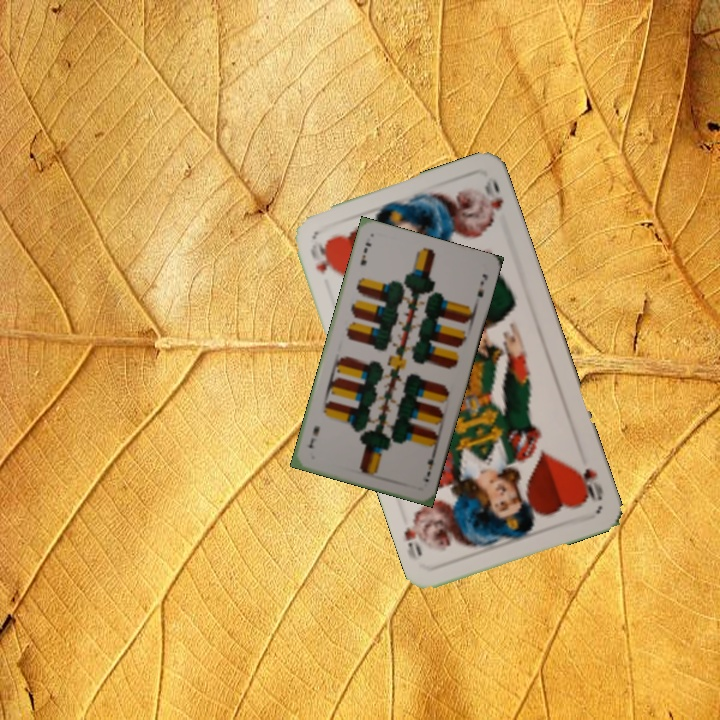E7: (419, 448, 439, 484), (356, 238, 374, 268)
HO: (572, 462, 606, 505), (306, 236, 337, 277)
